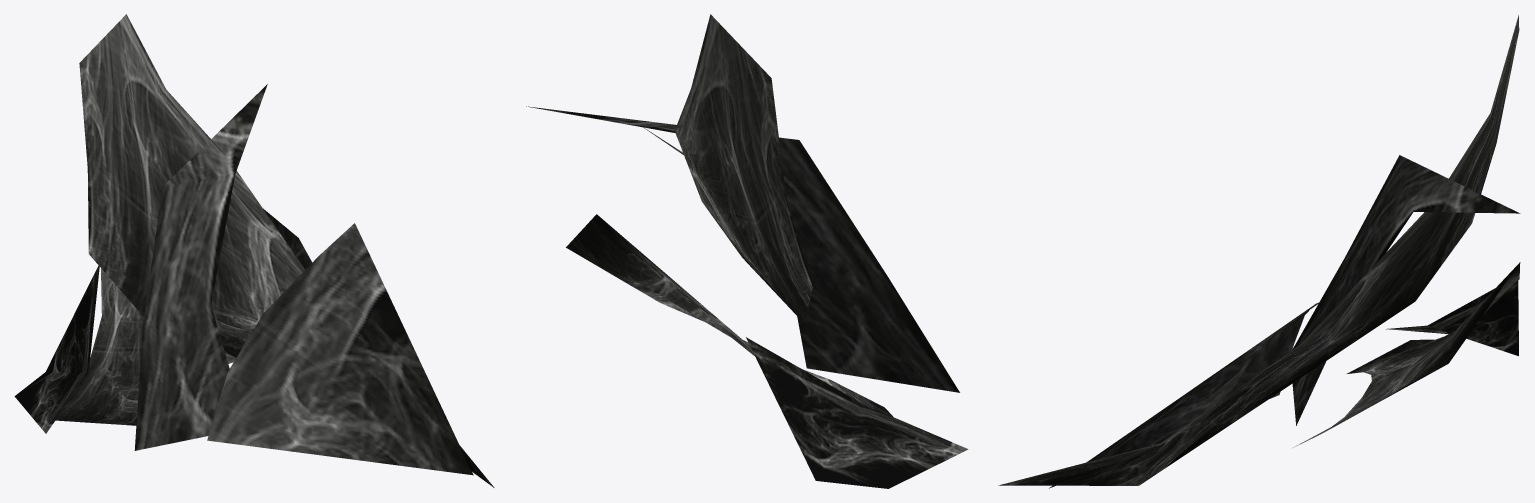
The model's file is SM_CobwebA.FBX.
The picture shows the model from 3 angles, left to right: view 1: azimuth 30°, elevation 25°; view 2: azimuth 150°, elevation 25°; view 3: azimuth 270°, elevation 25°; orthographic projection. The views are drawn at different scales.
Parts seen in each view (by area): view 1: SM_CobwebA; view 2: SM_CobwebA; view 3: SM_CobwebA.
Boxes of the visible parts, left/top/right/bottom form: SM_CobwebA: left=14, top=14, right=494, bottom=487; SM_CobwebA: left=526, top=14, right=968, bottom=488; SM_CobwebA: left=998, top=15, right=1520, bottom=488.
Size of the model in its own units: 42.99 by 50.81 by 60.33.
